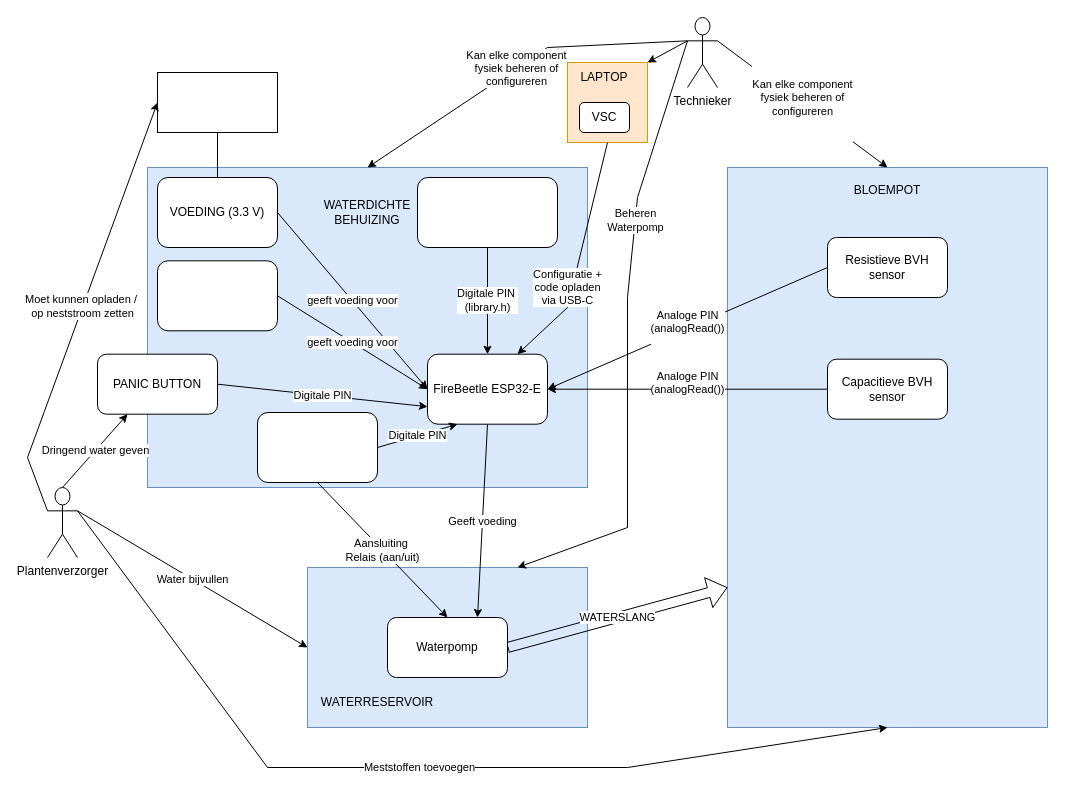
This 1065x793 diagram has some shape labels left out. Here are the shapes that lost their labels. From the top down, the centre of each, then its label:
At point (217, 102): "ADAPTER NETSPANNING".
At point (487, 212): "Temperatuursensor Waterproof DS18B20 kit".
At point (217, 295): "BATTERIJ (3.3 V)".
At point (317, 447): "RELAIS".
